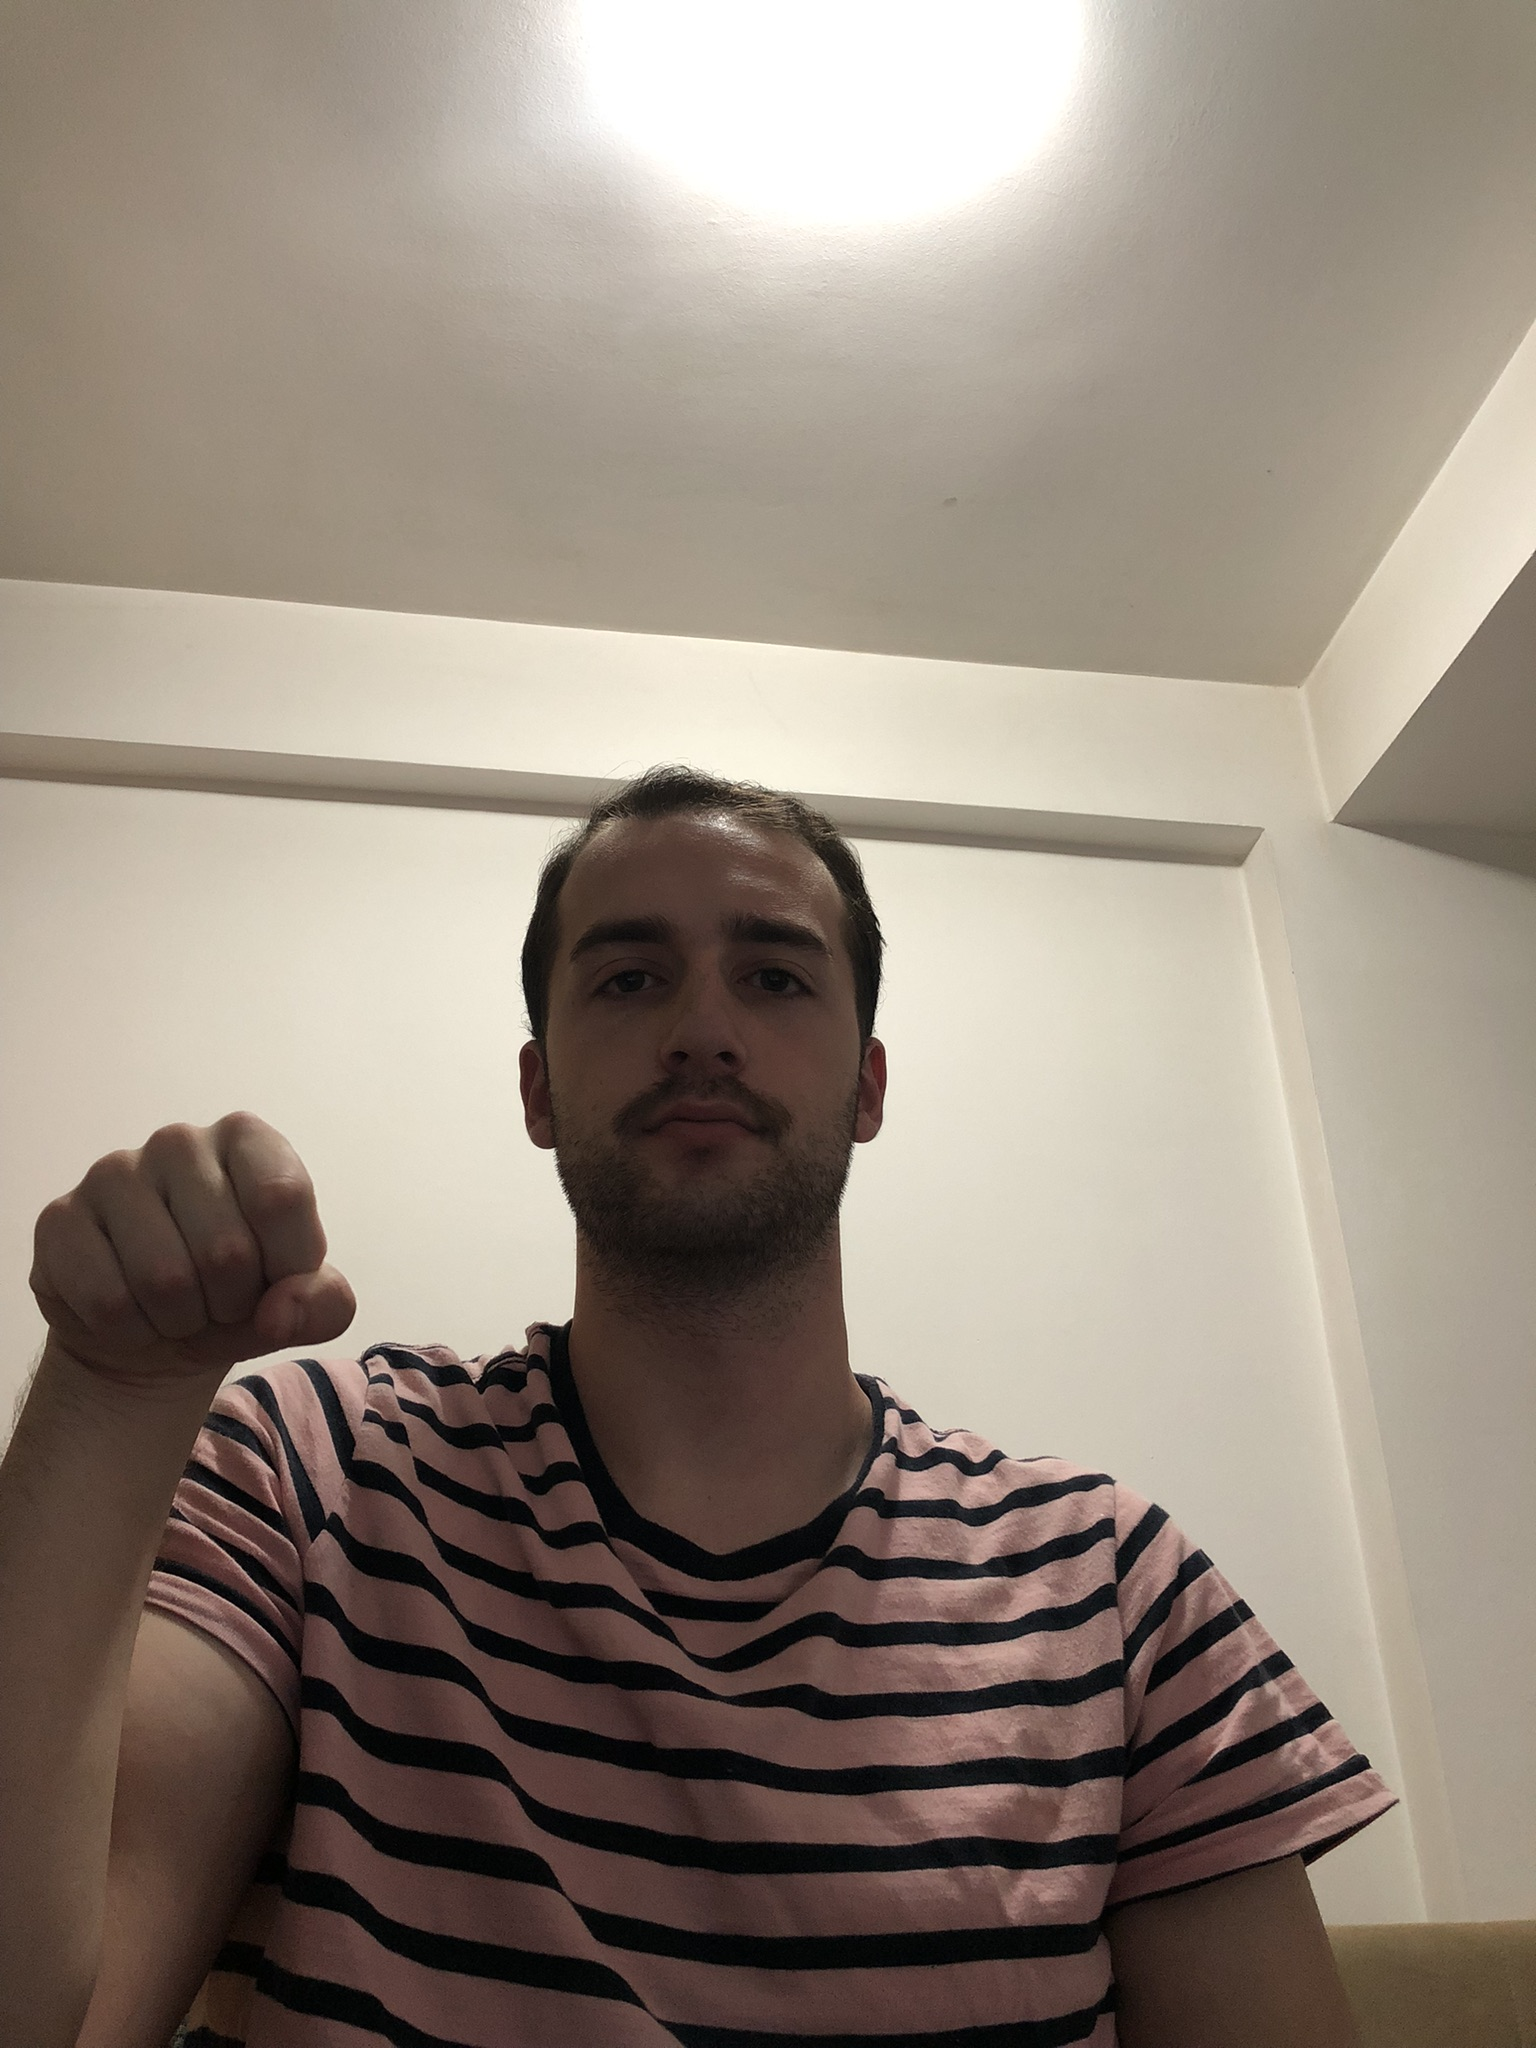Yes: (27, 1108, 358, 1376)
